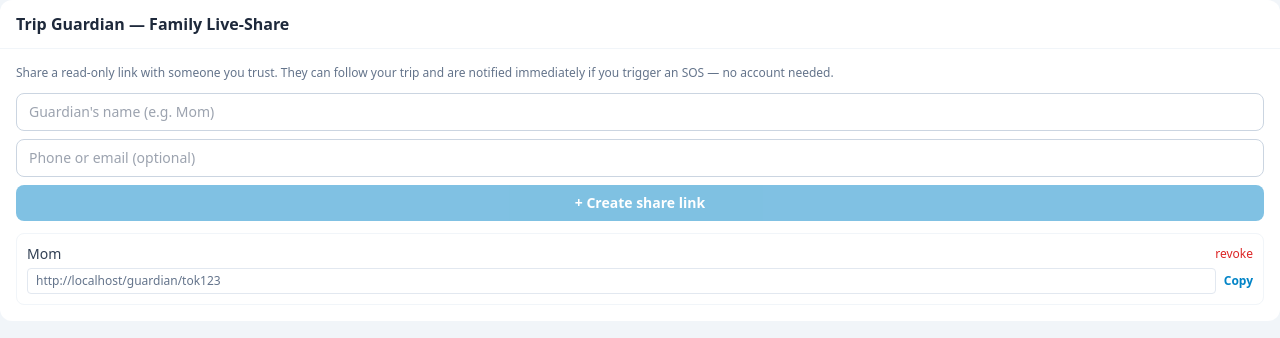
Test case: TripGuardianCard › revoking a guardian removes it from the active list
Click the button "revoke": (1234, 254) [1215,246,1253,262]
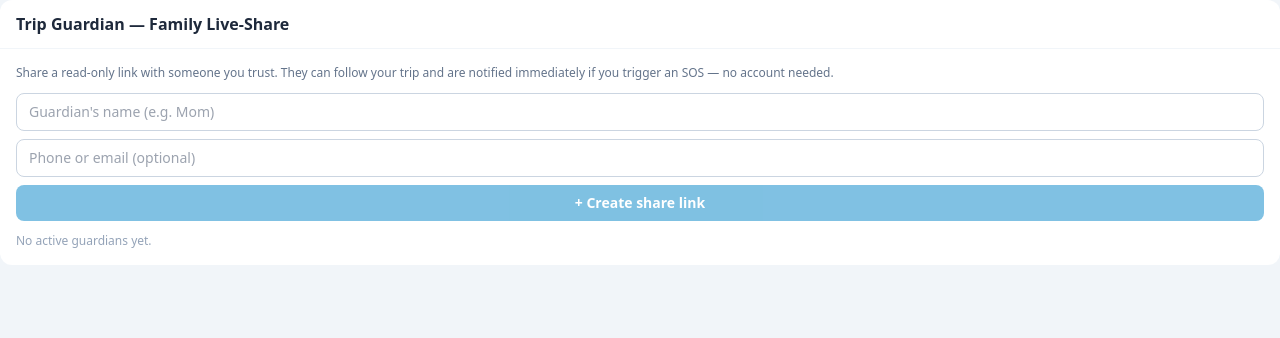
Now the text "No active guardians yet." is shown, box [16,232,152,249]
